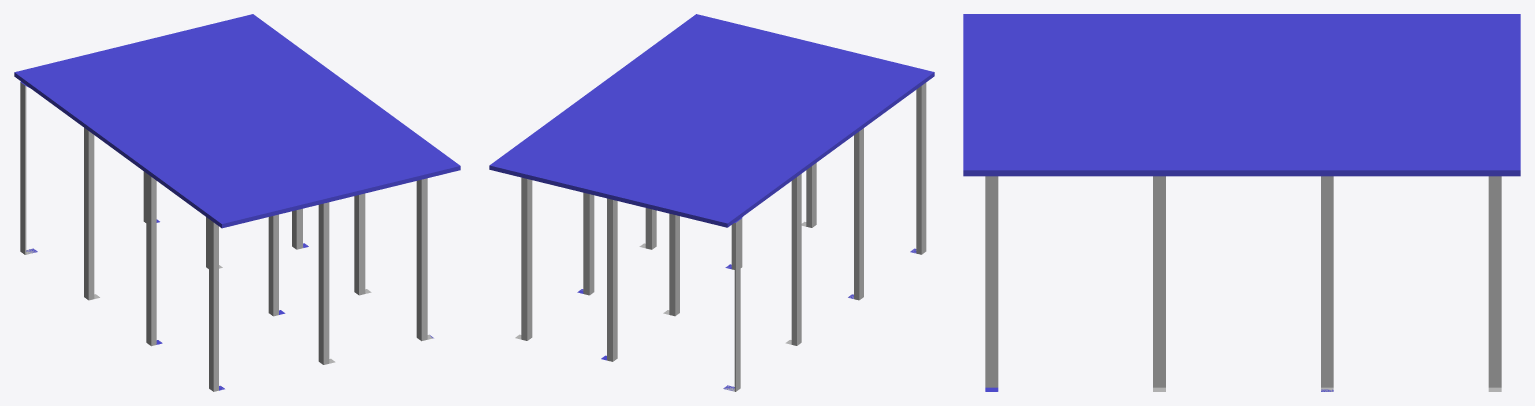
File: parking1.fbx
The picture shows the model from 3 angles, left to right: view 1: azimuth 30°, elevation 25°; view 2: azimuth 150°, elevation 25°; view 3: azimuth 270°, elevation 25°; orthographic projection. The views are drawn at different scales.
Parts seen in each view (by area): view 1: Cube; view 2: Cube; view 3: Cube.
Part boxes in pixels (<box>): Cube: <box>14,14,460,391</box>; Cube: <box>489,14,934,391</box>; Cube: <box>963,14,1520,391</box>.
Size of the model in its own units: 289 by 200 by 433.
